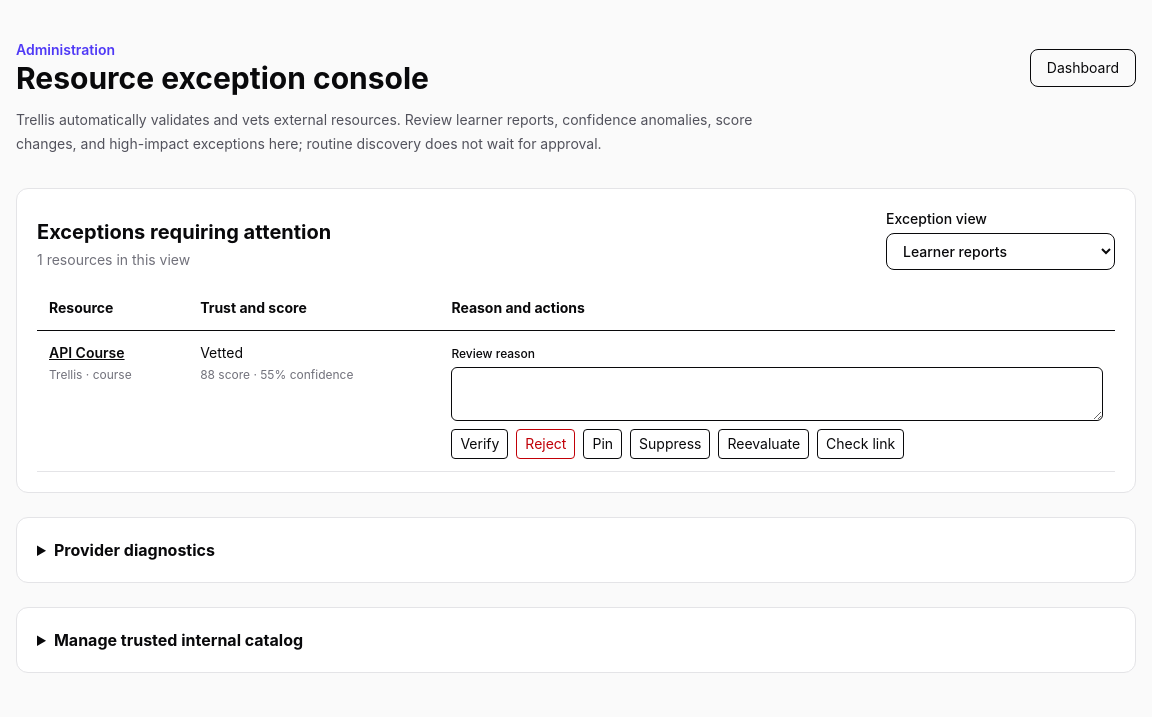
Admin resource exception console › shows exception views and keeps provider search diagnostic-only
Expected: the link "API Course" is shown, [49, 344, 125, 361]
Click the heading "Provider diagnostics" at (134,550), box [54, 540, 215, 560]
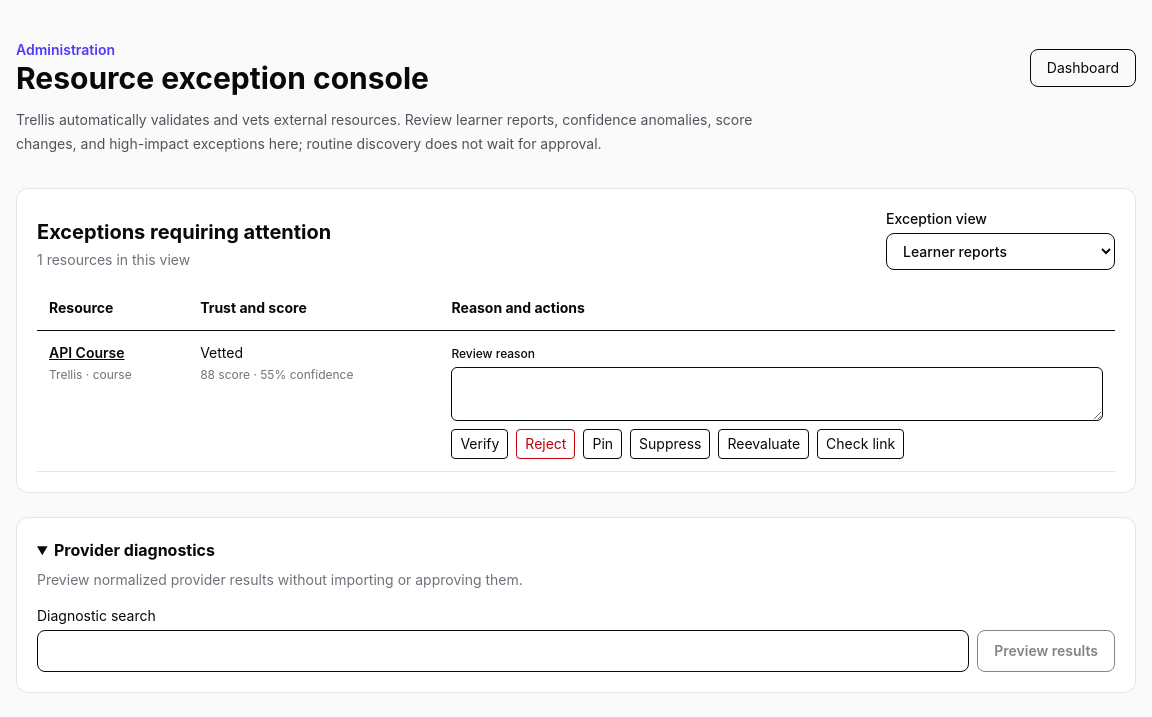
Type "backend APIs" into the field labelled "Diagnostic search" at (503,651), box [37, 630, 969, 672]
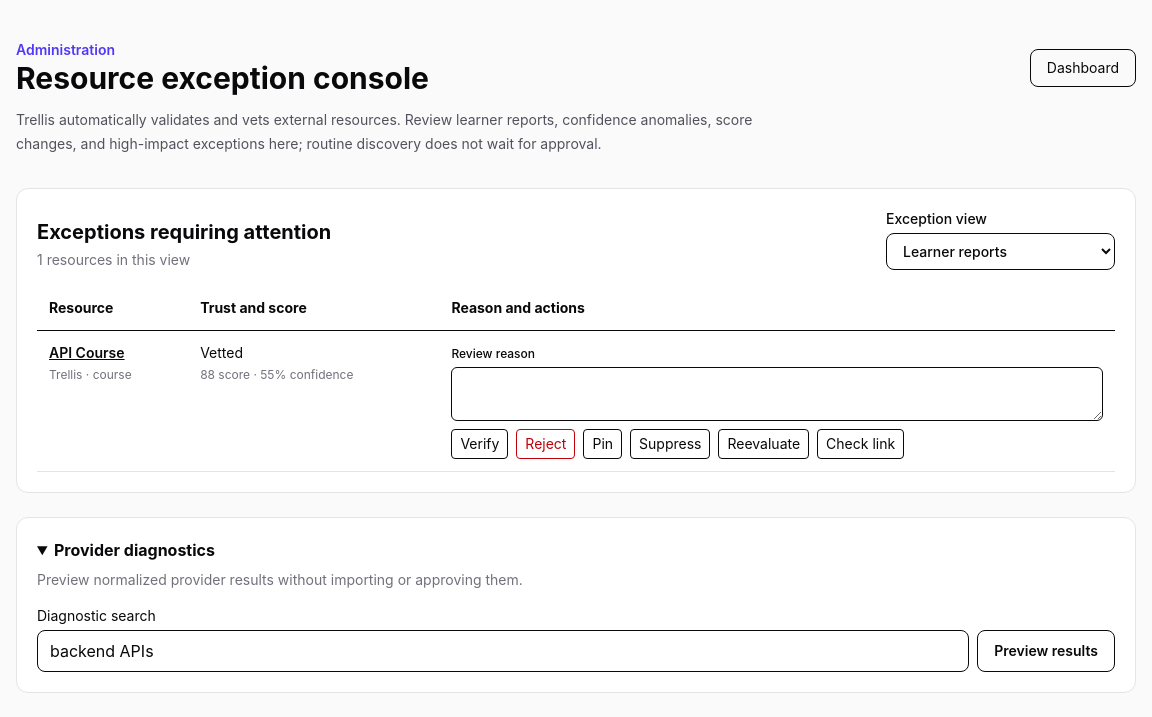
Click the button "Preview results" at (1046,651), box [977, 630, 1115, 672]
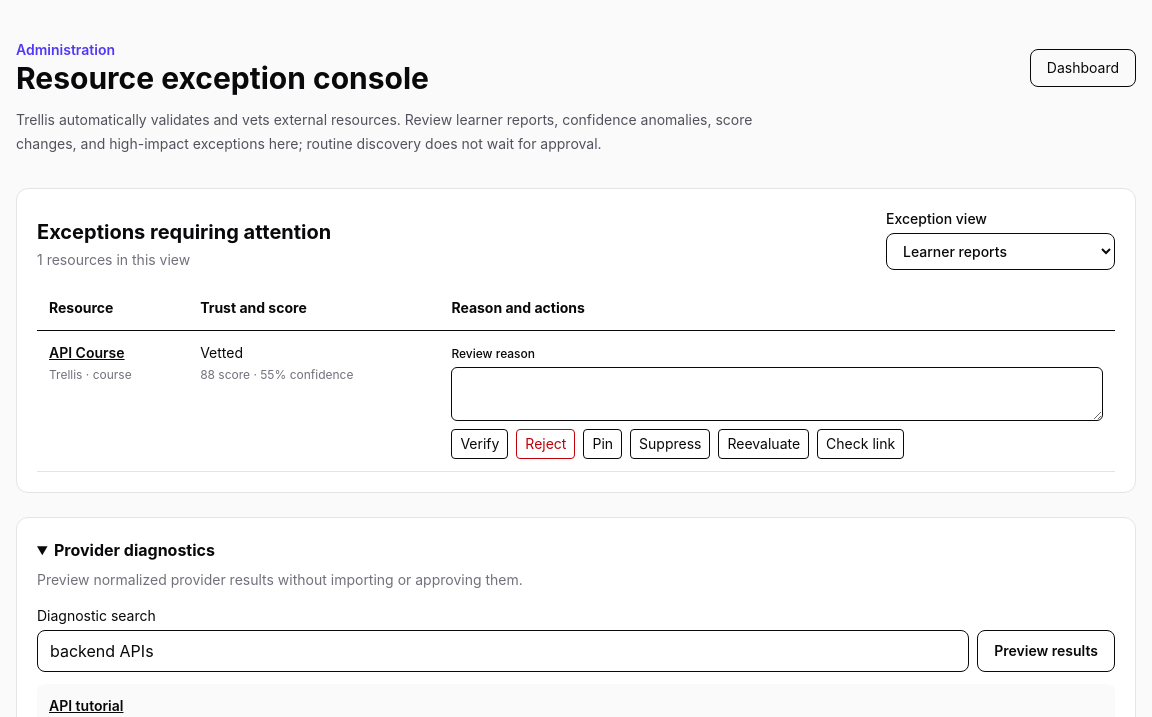
Expected: the link "API tutorial" is shown, [49, 697, 124, 714]
